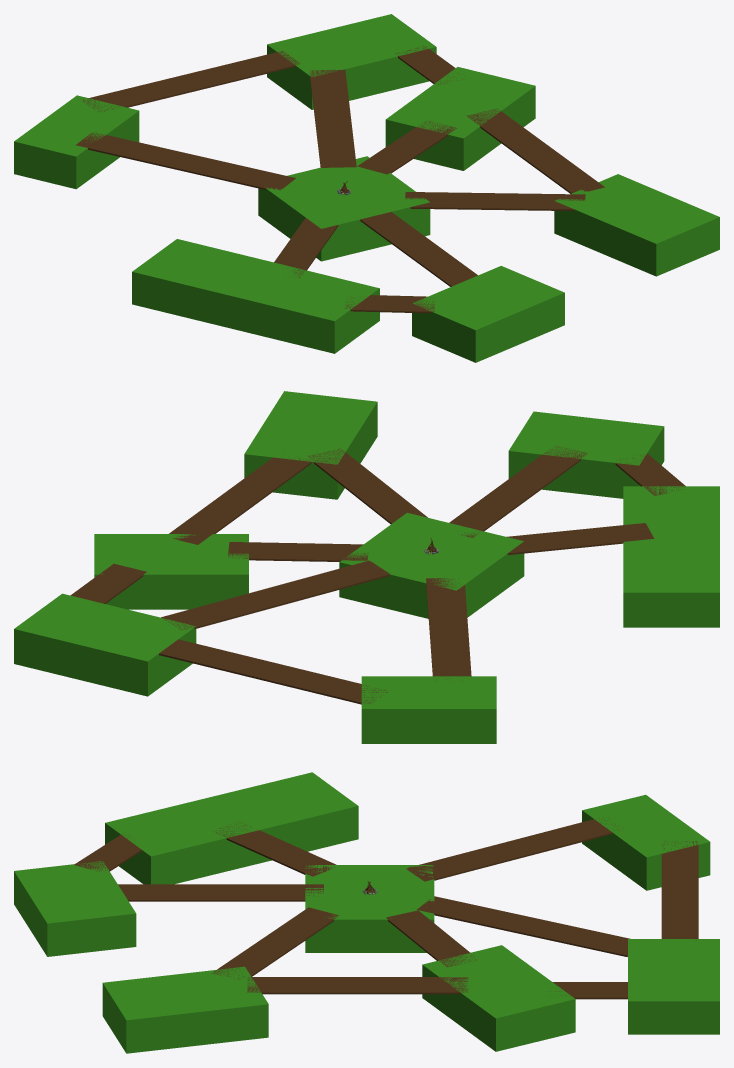
Rendered from islands.gltf.
3 views of the same model, one above another, from view 1: azimuth 30°, elevation 25°; view 2: azimuth 150°, elevation 25°; view 3: azimuth 270°, elevation 25° (orthographic). The views are drawn at different scales.
Parts seen in each view (by area): view 1: Floor.003, Floor.002, Floor.005, Floor.000, Floor.001, Floor.006, Floor.004, Bridge.002, Bridge.008, Bridge.001, Bridge.006, Bridge.005 (+5 smaller); view 2: Floor.003, Floor.001, Floor.000, Floor.006, Floor.004, Floor.002, Floor.005, Bridge.001, Bridge.008, Bridge.006, Bridge.002, Bridge.005 (+5 smaller); view 3: Floor.003, Floor.002, Floor.006, Floor.005, Floor.000, Floor.001, Floor.004, Bridge.001, Bridge.006, Bridge.002, Bridge.008, Bridge.005 (+5 smaller).
Boxes of the visible parts, x1=… form: Floor.003: x1=132, y1=239, x2=379, y2=353; Floor.002: x1=554, y1=174, x2=719, y2=276; Floor.005: x1=412, y1=266, x2=564, y2=362; Floor.000: x1=258, y1=156, x2=430, y2=261; Floor.001: x1=267, y1=14, x2=436, y2=109; Floor.006: x1=385, y1=67, x2=535, y2=170; Floor.004: x1=14, y1=95, x2=139, y2=189; Bridge.002: x1=76, y1=132, x2=295, y2=190; Bridge.008: x1=83, y1=51, x2=300, y2=111; Bridge.001: x1=309, y1=69, x2=356, y2=167; Bridge.006: x1=466, y1=108, x2=604, y2=193; Bridge.005: x1=360, y1=212, x2=477, y2=286; Floor.003: x1=623, y1=486, x2=719, y2=627; Floor.001: x1=14, y1=593, x2=196, y2=696; Floor.000: x1=339, y1=512, x2=524, y2=618; Floor.006: x1=94, y1=534, x2=248, y2=609; Floor.004: x1=361, y1=676, x2=496, y2=743; Floor.002: x1=244, y1=391, x2=377, y2=499; Floor.005: x1=508, y1=411, x2=664, y2=498; Bridge.001: x1=161, y1=560, x2=389, y2=630; Bridge.008: x1=159, y1=639, x2=387, y2=704; Bridge.006: x1=169, y1=457, x2=311, y2=544; Bridge.002: x1=426, y1=578, x2=471, y2=681; Bridge.005: x1=449, y1=446, x2=587, y2=537; Floor.003: x1=105, y1=772, x2=358, y2=884; Floor.002: x1=102, y1=966, x2=268, y2=1053; Floor.006: x1=422, y1=945, x2=575, y2=1051; Floor.005: x1=14, y1=861, x2=136, y2=956; Floor.000: x1=305, y1=865, x2=434, y2=952; Floor.001: x1=628, y1=939, x2=719, y2=1034; Floor.004: x1=582, y1=794, x2=710, y2=890; Bridge.001: x1=417, y1=896, x2=630, y2=956; Bridge.006: x1=247, y1=977, x2=468, y2=994; Bridge.002: x1=406, y1=817, x2=619, y2=881; Bridge.008: x1=661, y1=841, x2=698, y2=940; Bridge.005: x1=118, y1=884, x2=323, y2=901.
Size of what is drawn, in the model's own units: 63.73 by 5.46 by 76.64.
21 materials, 21 textured.
